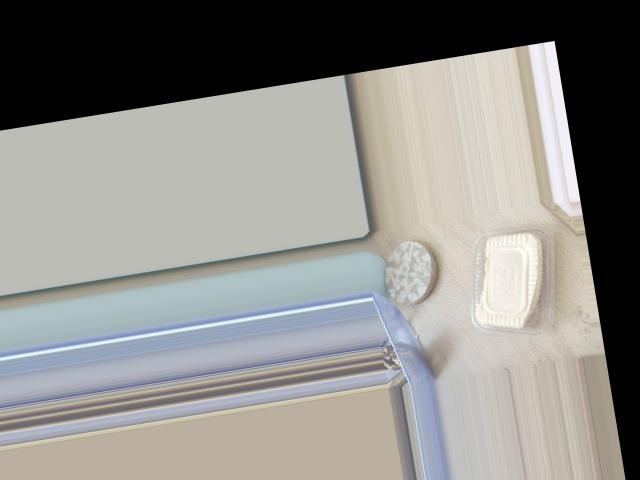cheese: (449, 204, 590, 335)
